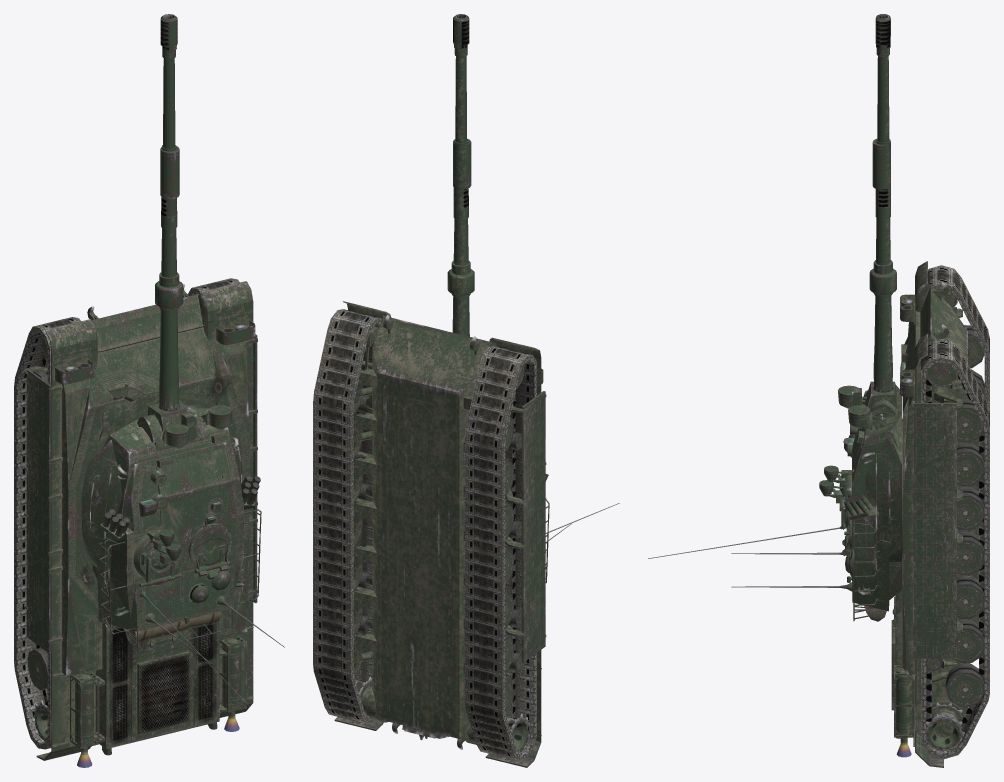
3 renders of one model, left to right at view 1: azimuth 30°, elevation 25°; view 2: azimuth 150°, elevation 25°; view 3: azimuth 270°, elevation 25°, orthographic. The views are drawn at different scales.
Parts seen in each view (by area): view 1: hull, hull_nc, turret_01, turret_02, chassis_track_L, turret_02_nc, turret_01_nc, gun_02, gun_01, gun_03, chassis_wheel_L_12, gun_03_mask_nc (+1 smaller); view 2: hull, chassis_track_L, chassis_track_R, hull_nc, gun_02, gun_01, gun_03, chassis_wheel_L_13; view 3: hull, hull_nc, chassis_track_R, turret_02, turret_01, turret_02_nc, gun_02, turret_01_nc, gun_01, chassis_track_L, chassis_wheel_R_13, chassis_wheel_R_12 (+8 smaller).
Boxes of the visible parts, box(x1,y1,x2,y2) form: hull: box(26, 294, 257, 748); hull_nc: box(24, 281, 257, 767); turret_01: box(92, 408, 243, 618); turret_02: box(81, 420, 236, 631); chassis_track_L: box(14, 317, 80, 749); turret_02_nc: box(89, 436, 284, 664); turret_01_nc: box(104, 405, 249, 706); gun_02: box(155, 197, 183, 380); gun_01: box(159, 14, 179, 410); gun_03: box(159, 22, 179, 410); chassis_wheel_L_12: box(27, 647, 47, 690); gun_03_mask_nc: box(162, 411, 196, 448); hull: box(366, 315, 545, 744); chassis_track_L: box(464, 346, 536, 760); chassis_track_R: box(313, 309, 381, 723); hull_nc: box(334, 301, 546, 767); gun_02: box(447, 187, 474, 336); gun_01: box(453, 14, 471, 148); gun_03: box(453, 21, 471, 189); chassis_wheel_L_13: box(507, 713, 528, 753); hull: box(895, 285, 967, 732); hull_nc: box(891, 261, 969, 767); chassis_track_R: box(921, 339, 989, 759); turret_02: box(833, 413, 902, 611); turret_01: box(838, 384, 902, 600); turret_02_nc: box(731, 403, 892, 621); gun_02: box(869, 186, 896, 392); turret_01_nc: box(648, 405, 889, 621); gun_01: box(872, 14, 892, 392); chassis_track_L: box(928, 265, 989, 663); chassis_wheel_R_13: box(926, 702, 964, 751); chassis_wheel_R_12: box(945, 664, 984, 707).
Bounding box in the file's own units: 3.71 × 12.47 × 5.48.
Materials: 2 (2 with a texture image).
